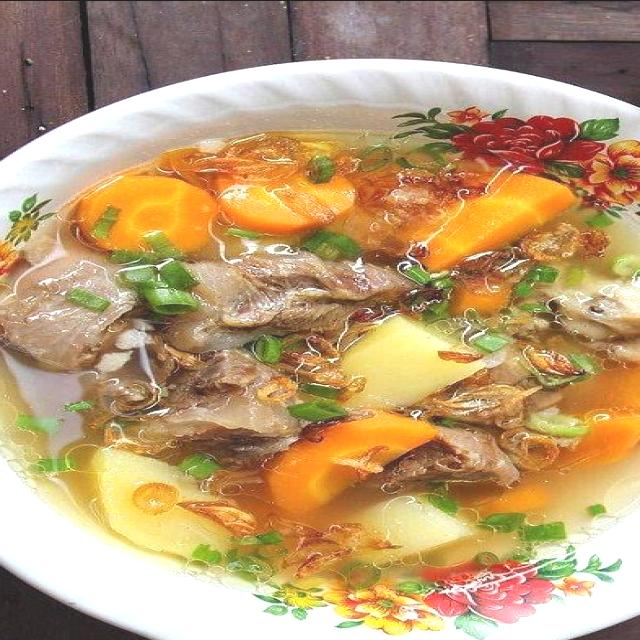sop: (0, 131, 640, 640)
